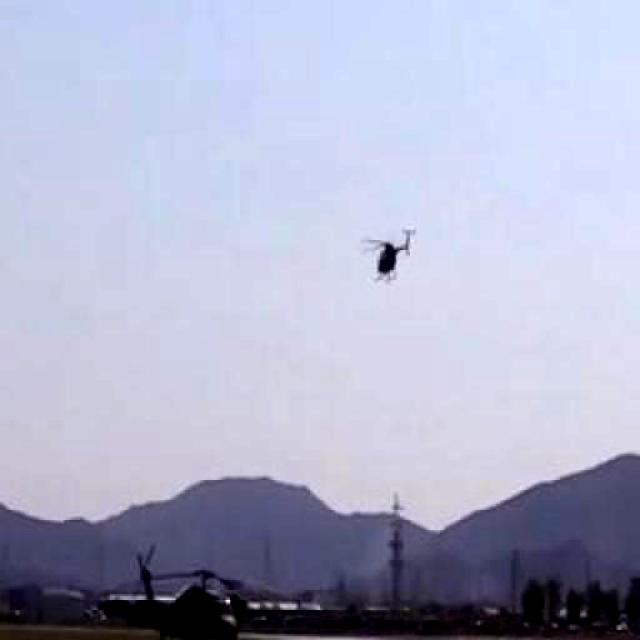drone: (325, 188, 451, 311)
